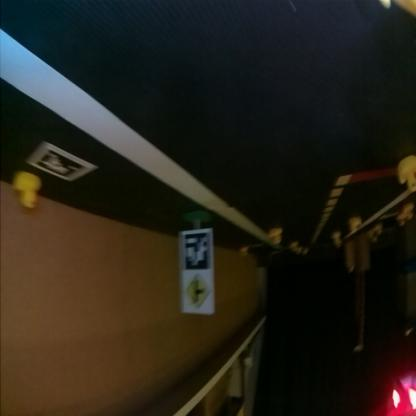Duckie: (18, 178, 40, 209), (398, 156, 414, 192), (271, 228, 282, 245), (350, 218, 362, 233)
Intersection sign: (186, 274, 212, 308)
QR code: (30, 143, 96, 179), (185, 233, 211, 271)
Traffic light: (392, 381, 415, 415)
